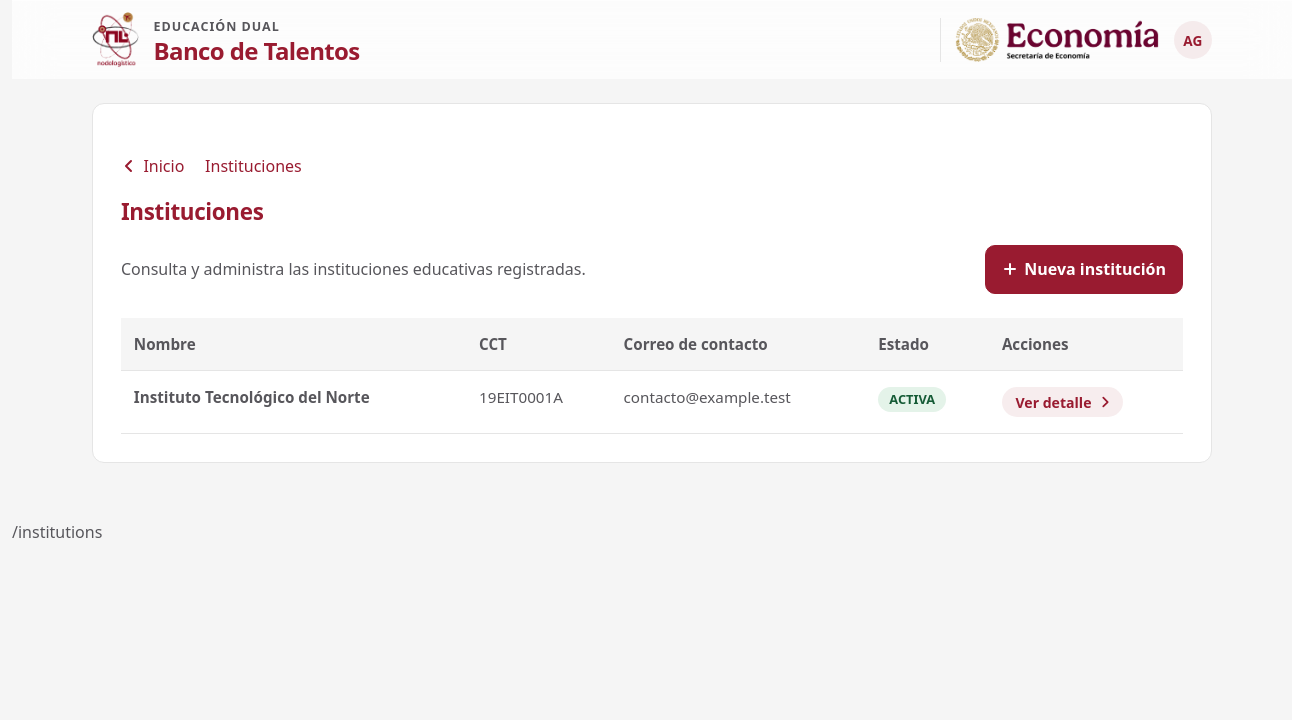
Scenario: consulta de instituciones › consulta los datos individuales y ofrece edición y cambio de estado sin eliminación
The width and height of the screenshot is (1292, 720).
Click the link "Ver detalle" at {"x": 1063, "y": 402}, box [1002,387,1123,417]
(page scrolled)
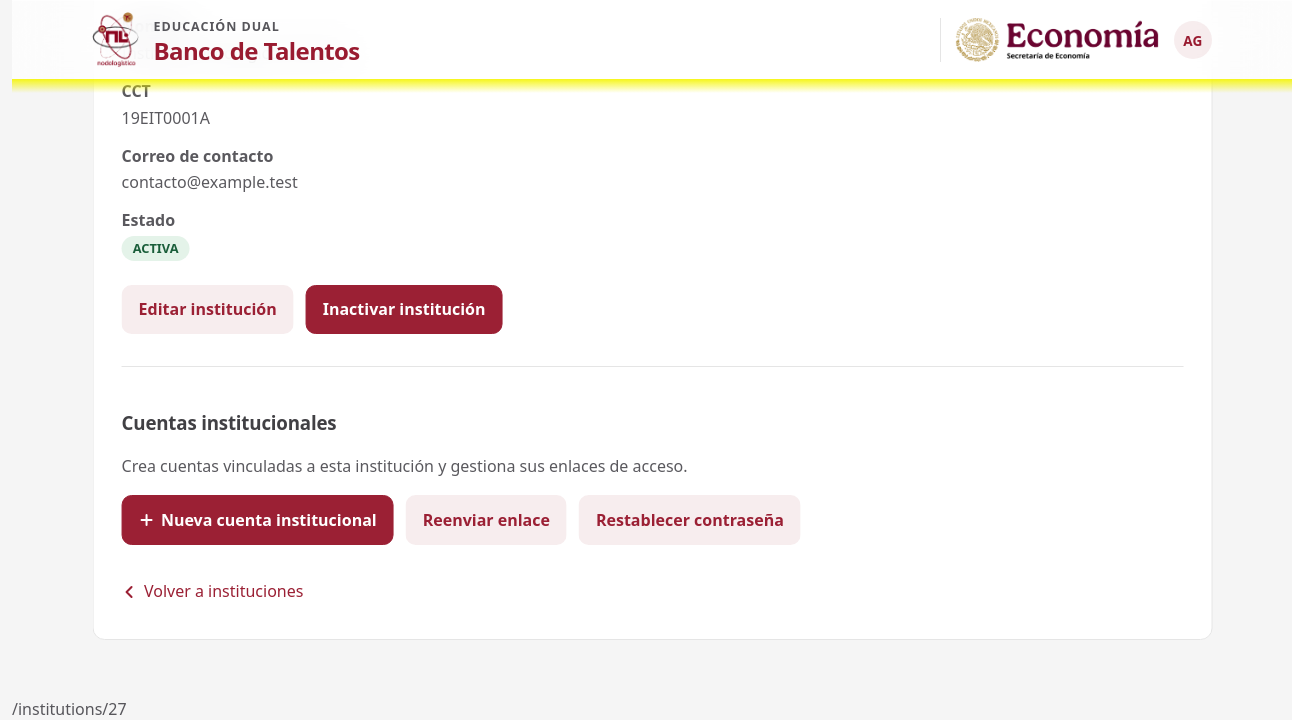
Expected: the text "Instituto Tecnológico del Norte" is shown, [121,42,353,64]
Now the button "Inactivar institución" is enabled, box [306,285,502,334]
